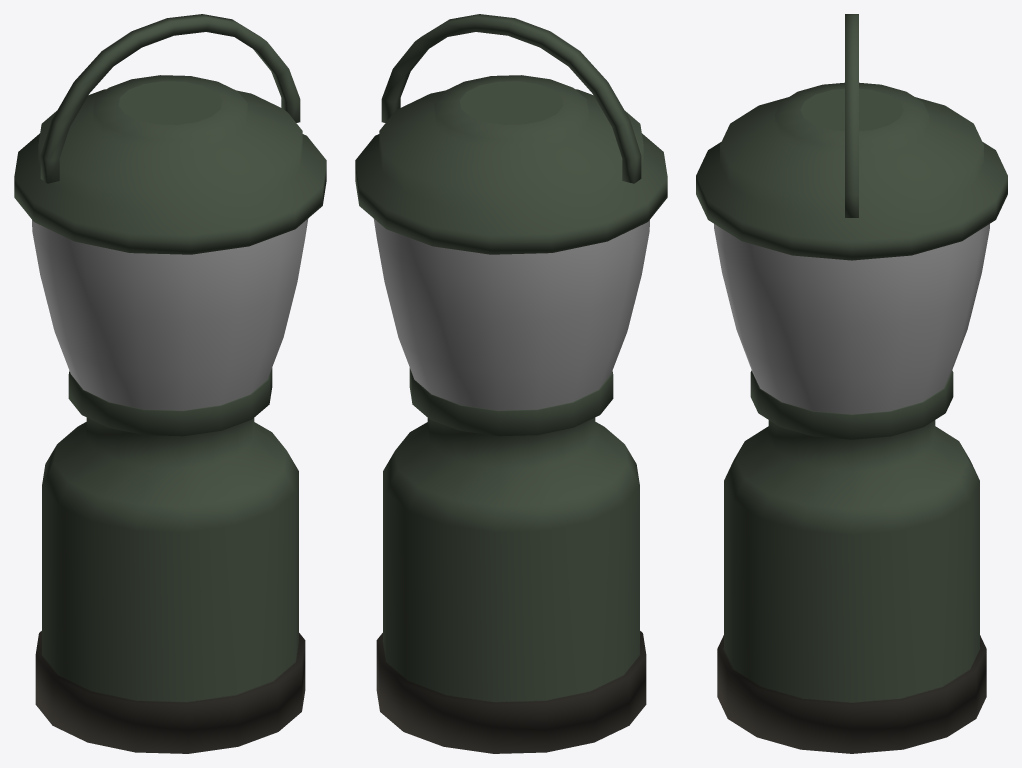
File: 3D_AN_ATT_Home_Leisure_Fire_Lantern_V1.fbx
The picture shows the model from 3 angles, left to right: view 1: azimuth 30°, elevation 25°; view 2: azimuth 150°, elevation 25°; view 3: azimuth 270°, elevation 25°; orthographic projection.
Visible parts, largest first — view 1: body, glass_M; view 2: body, glass_M; view 3: body, glass_M.
Boxes of the visible parts, box(x1,y1,x2,y2) form: body: box(14, 14, 326, 753); glass_M: box(32, 218, 308, 410); body: box(355, 14, 667, 753); glass_M: box(373, 218, 649, 410); body: box(696, 14, 1007, 753); glass_M: box(714, 224, 989, 414).
Bounding box in the file's own units: 21.89 × 51.8 × 21.89.
